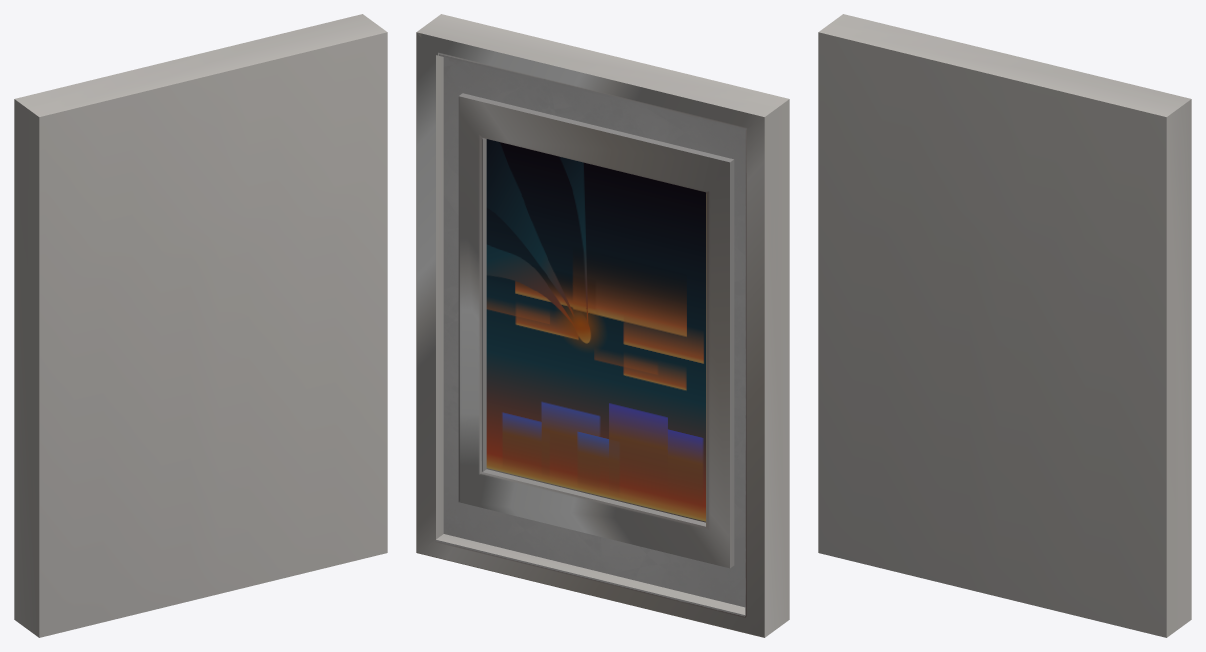
Rendered from modern picture.fbx.
3 views of the same model, side by side, from view 1: azimuth 30°, elevation 25°; view 2: azimuth 150°, elevation 25°; view 3: azimuth 330°, elevation 25° (orthographic).
Parts seen in each view (by area): view 1: modern picture; view 2: modern picture; view 3: modern picture.
Boxes of the visible parts, x1,y1,x2,y2 form: modern picture: (14, 14, 387, 637); modern picture: (416, 14, 789, 637); modern picture: (818, 14, 1191, 637).
Bounding box in the file's own units: 119 × 170 × 14.76.
Materials: 1 (1 with a texture image).
